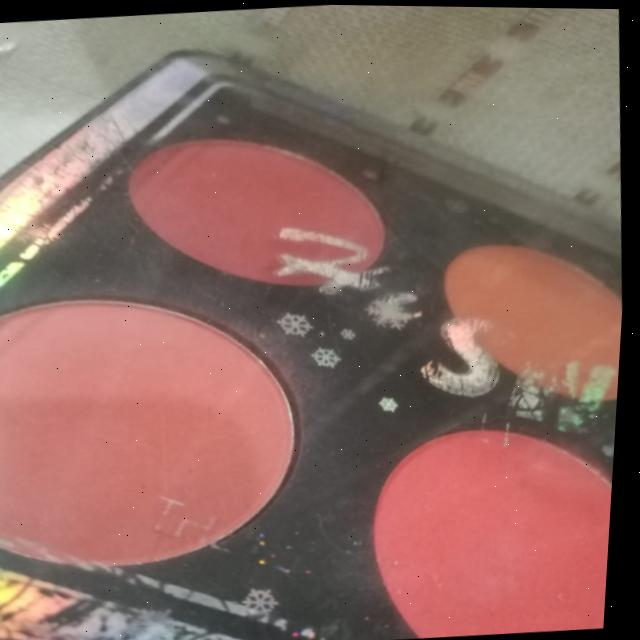blush: (0, 275, 338, 584), (348, 408, 621, 640), (107, 103, 415, 307), (404, 221, 630, 418)
